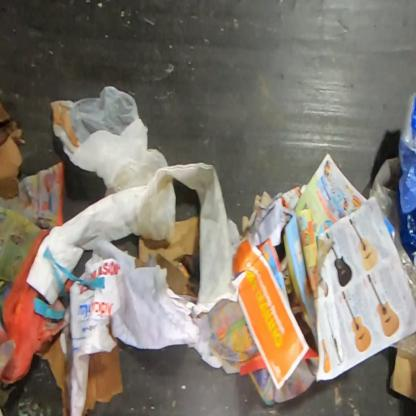cardboard: (135, 216, 200, 298), (81, 319, 125, 415), (36, 329, 71, 415), (0, 99, 28, 201), (389, 348, 415, 405)
soft_plastic: (24, 85, 240, 320), (82, 238, 224, 370), (368, 157, 415, 304), (396, 90, 415, 273), (389, 331, 416, 358)
